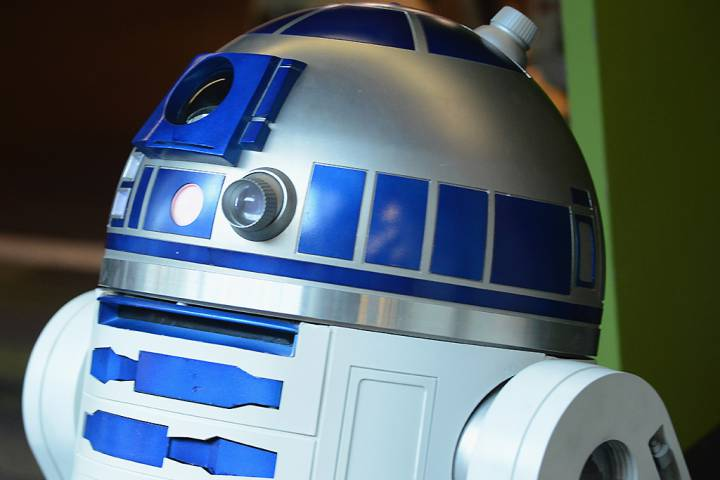r2d2: (81, 1, 685, 480)
